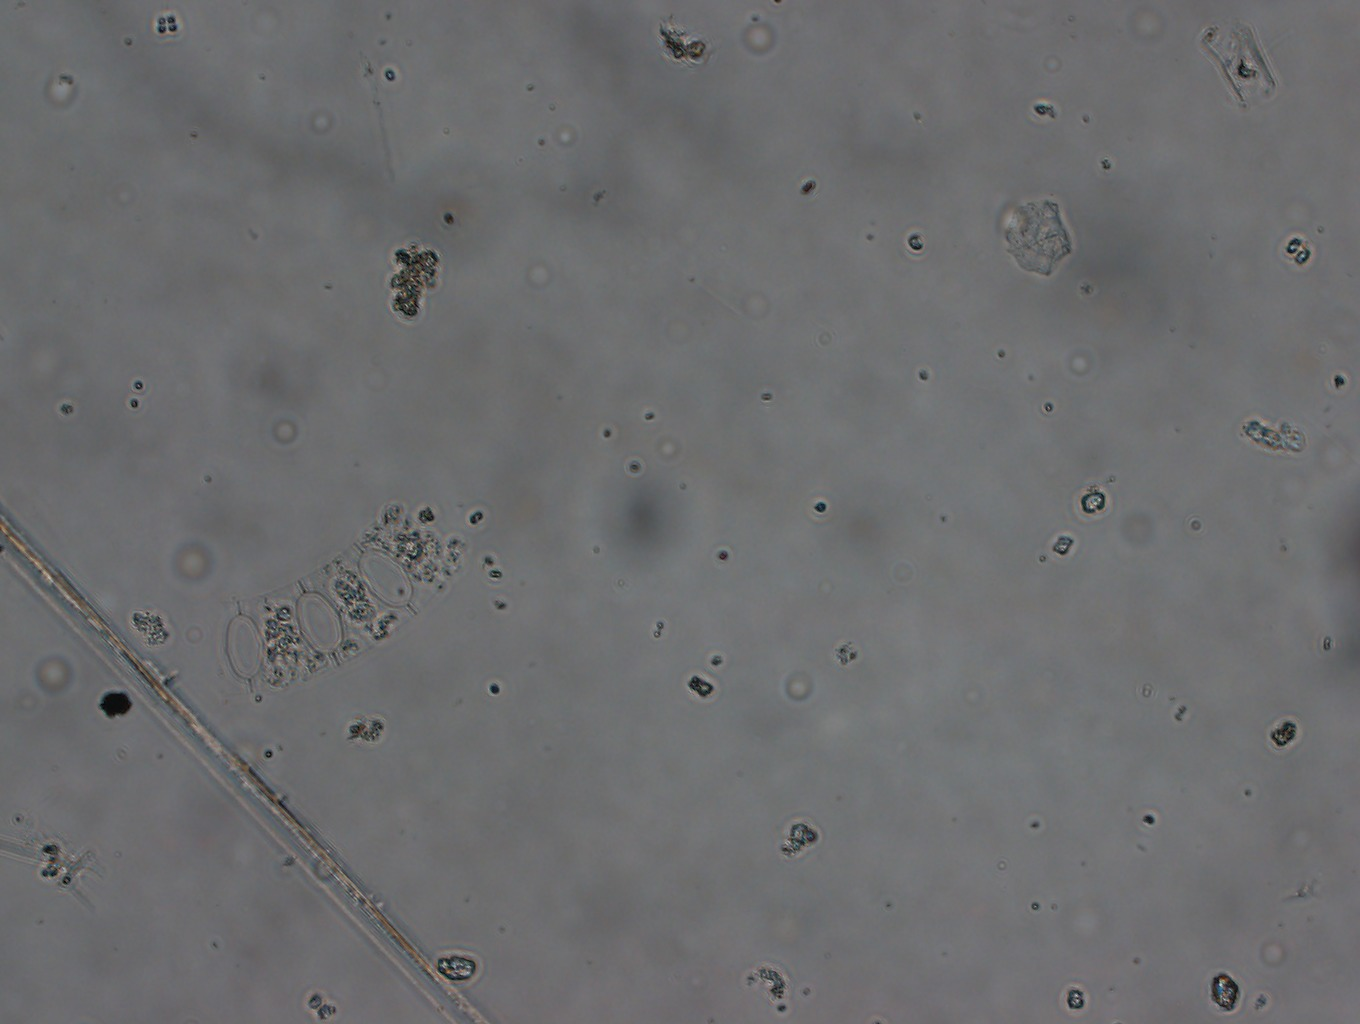eucampia: (216, 479, 501, 706)
